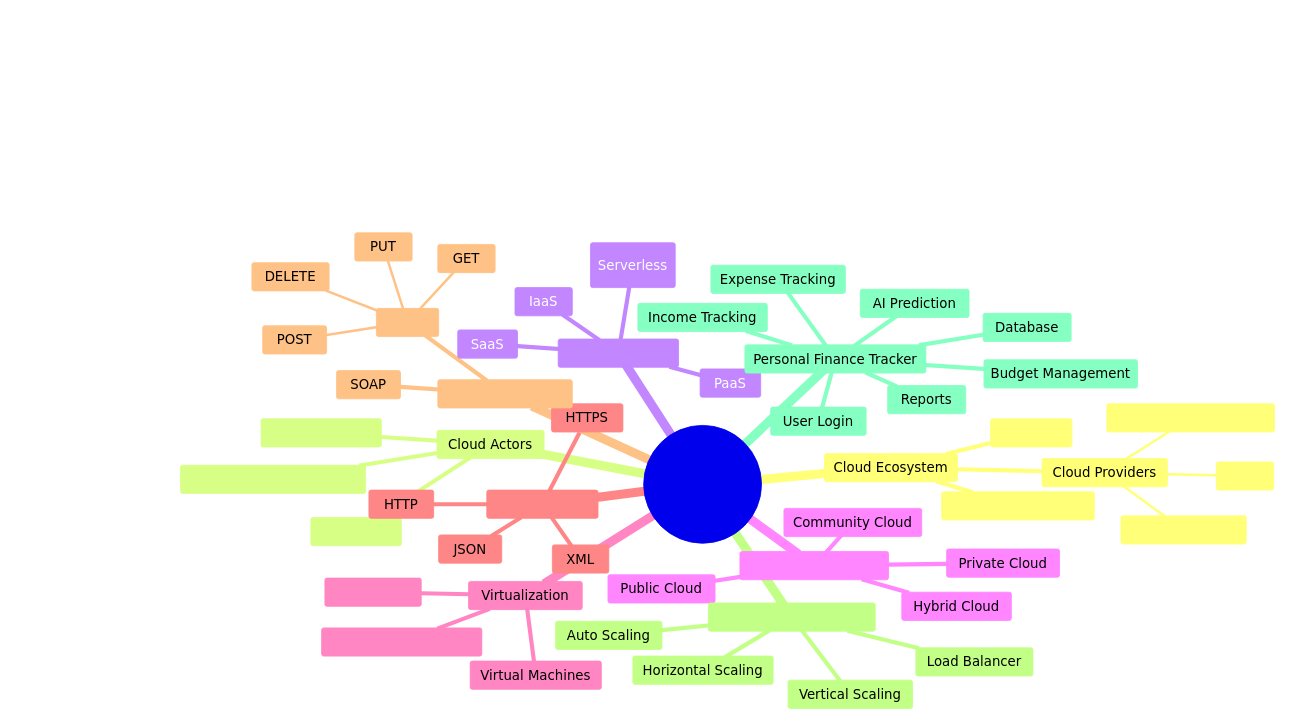
The diagram is 1289 pixels wide and 723 high, and some of its shapes have lost their labels. Each missing label, with the centre of its shape:
"AWS" goes at (1245,475).
"Cloud Computing" goes at (702,484).
"Cloud Provider" goes at (320,432).
"Containers" goes at (372,591).
"Deployment Models" goes at (814,565).
"End Users" goes at (355,531).
"Google Cloud Platform" goes at (1190,417).
"Internet" goes at (1031,432).
"Microsoft Azure" goes at (1183,529).
"REST" goes at (407,322).
"REST / SOAP APIs" goes at (504,393).
"Scalability & Elasticity" goes at (791,616).
"Serverless Computing" goes at (401,641).
"Service Models" goes at (618,352).
"Student Application Team" goes at (273,478).
"Third-Party Services" goes at (1017,505).
"Web Services" goes at (542,503).
